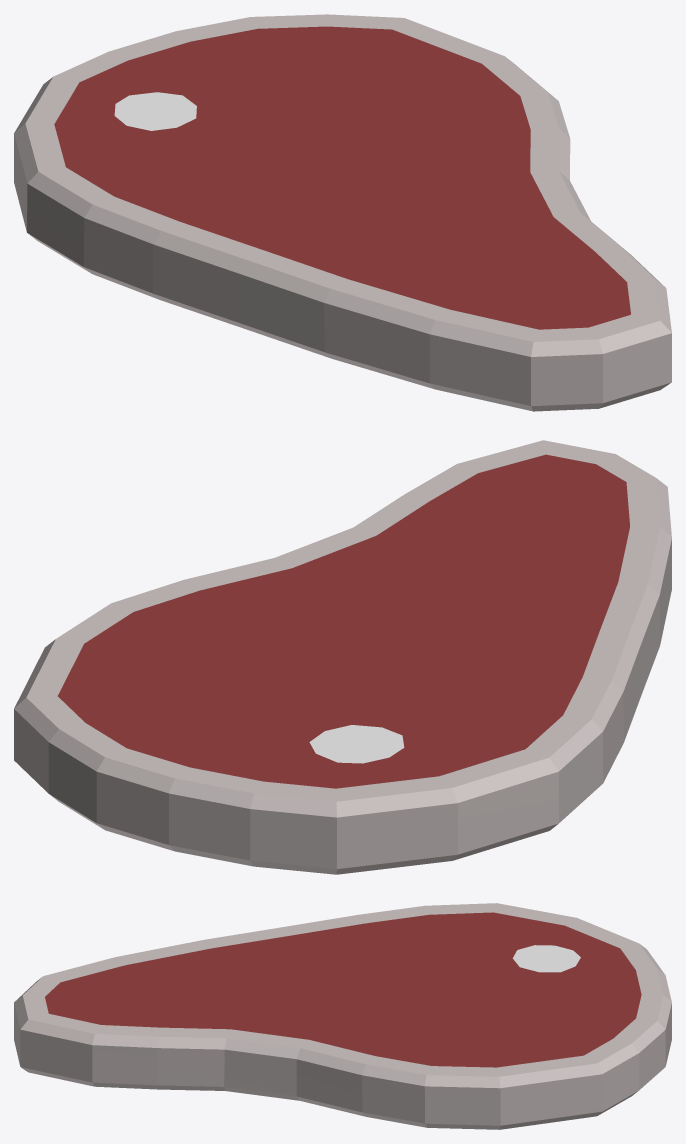
Rendered from SteakRaw(edit).fbx.
3 views of the same model, one above another, from view 1: azimuth 30°, elevation 25°; view 2: azimuth 150°, elevation 25°; view 3: azimuth 270°, elevation 25° (orthographic). The views are drawn at different scales.
Visible parts, largest first — view 1: Cylinder.001; view 2: Cylinder.001; view 3: Cylinder.001.
Boxes of the visible parts, <box> form: Cylinder.001: <box>14,14,671,411</box>; Cylinder.001: <box>14,440,671,874</box>; Cylinder.001: <box>14,903,671,1129</box>.
Size of the model in its own units: 50.22 by 6.83 by 77.02.
